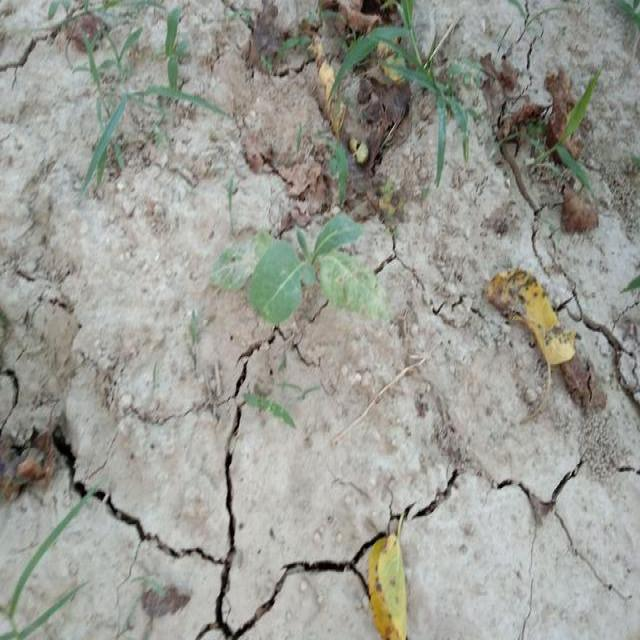crop: (199, 184, 399, 343)
